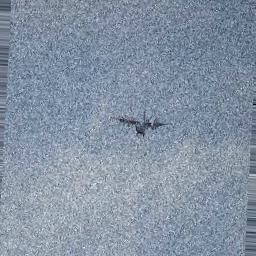Airplane: (112, 113, 168, 138)
